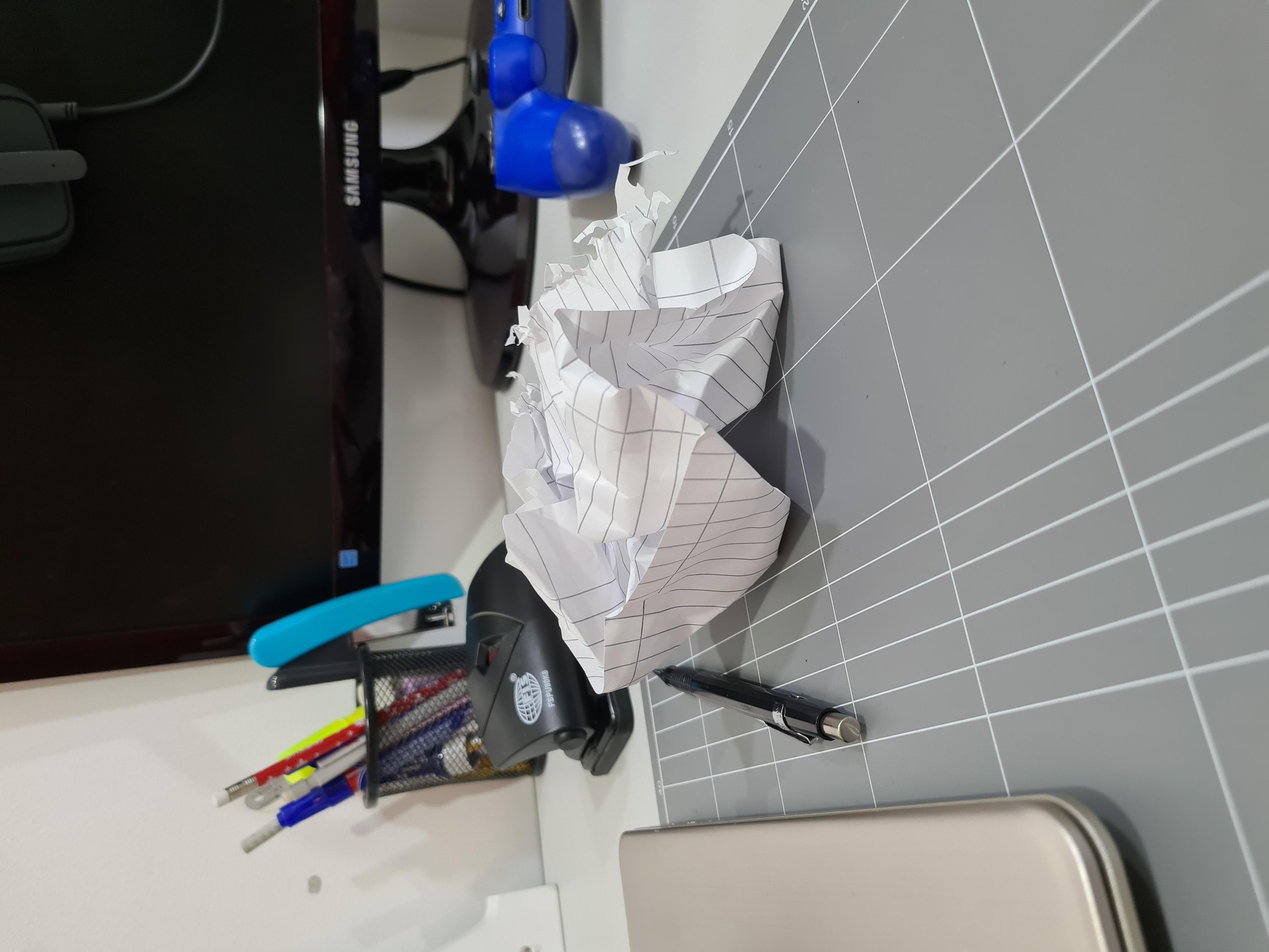paper: (345, 388, 1021, 593)
